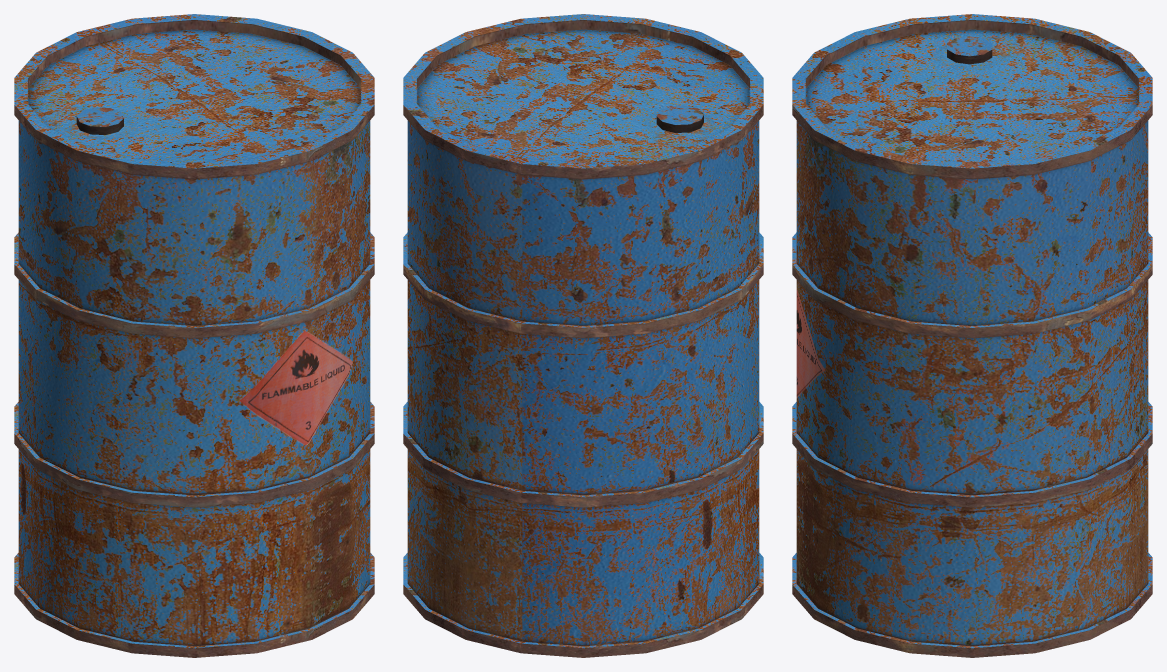
Rendered from barrel3.FBX.
The picture shows the model from 3 angles, left to right: view 1: azimuth 30°, elevation 25°; view 2: azimuth 150°, elevation 25°; view 3: azimuth 270°, elevation 25°; orthographic projection.
Parts seen in each view (by area): view 1: Mesh Object; view 2: Mesh Object; view 3: Mesh Object.
Boxes of the visible parts, x1,y1,x2,y2 form: Mesh Object: (14, 14, 374, 657); Mesh Object: (403, 14, 763, 657); Mesh Object: (792, 14, 1152, 657).
Size of the model in its own units: 0.7952 by 1.17 by 0.783.
